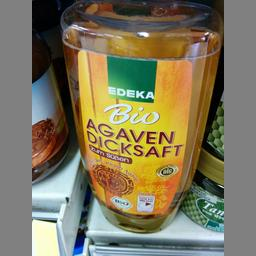honey: (58, 0, 220, 231)
